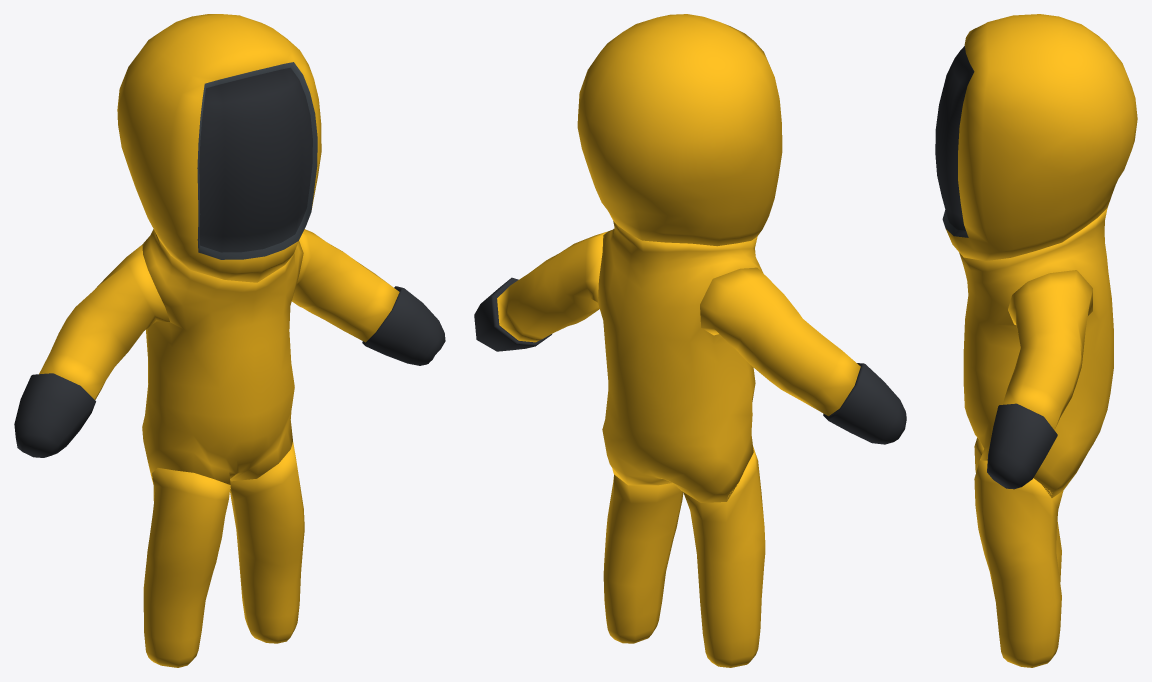
Rendered from PartsOfbackroomsScientist.fbx.
3 views of the same model, side by side, from view 1: azimuth 30°, elevation 25°; view 2: azimuth 150°, elevation 25°; view 3: azimuth 270°, elevation 25° (orthographic).
Visible parts, largest first — view 1: Stickman_heads_sphere.003, Stickman_heads_sphere, Stickman_heads_sphere.004, Stickman_heads_sphere.006, Stickman_heads_sphere.005, Stickman_heads_sphere.002; view 2: Stickman_heads_sphere.003, Stickman_heads_sphere, Stickman_heads_sphere.004, Stickman_heads_sphere.006, Stickman_heads_sphere.005, Stickman_heads_sphere.002; view 3: Stickman_heads_sphere.003, Stickman_heads_sphere, Stickman_heads_sphere.002, Stickman_heads_sphere.005, Stickman_heads_sphere.006.
Boxes of the visible parts, <box> form: Stickman_heads_sphere.003: <box>117,14,321,282</box>; Stickman_heads_sphere: <box>142,229,303,488</box>; Stickman_heads_sphere.004: <box>14,245,169,457</box>; Stickman_heads_sphere.006: <box>143,468,230,667</box>; Stickman_heads_sphere.005: <box>230,442,304,643</box>; Stickman_heads_sphere.002: <box>292,229,445,365</box>; Stickman_heads_sphere.003: <box>577,14,782,246</box>; Stickman_heads_sphere: <box>598,221,763,502</box>; Stickman_heads_sphere.004: <box>700,267,906,444</box>; Stickman_heads_sphere.006: <box>683,446,765,667</box>; Stickman_heads_sphere.005: <box>603,474,683,643</box>; Stickman_heads_sphere.002: <box>474,231,607,351</box>; Stickman_heads_sphere.003: <box>935,14,1137,260</box>; Stickman_heads_sphere: <box>959,208,1113,497</box>; Stickman_heads_sphere.002: <box>987,270,1092,489</box>; Stickman_heads_sphere.005: <box>974,460,1063,667</box>; Stickman_heads_sphere.006: <box>974,437,1061,581</box>.
Size of the model in its own units: 1.32 by 1.85 by 0.5516.
Materials: 1 (1 with a texture image).
